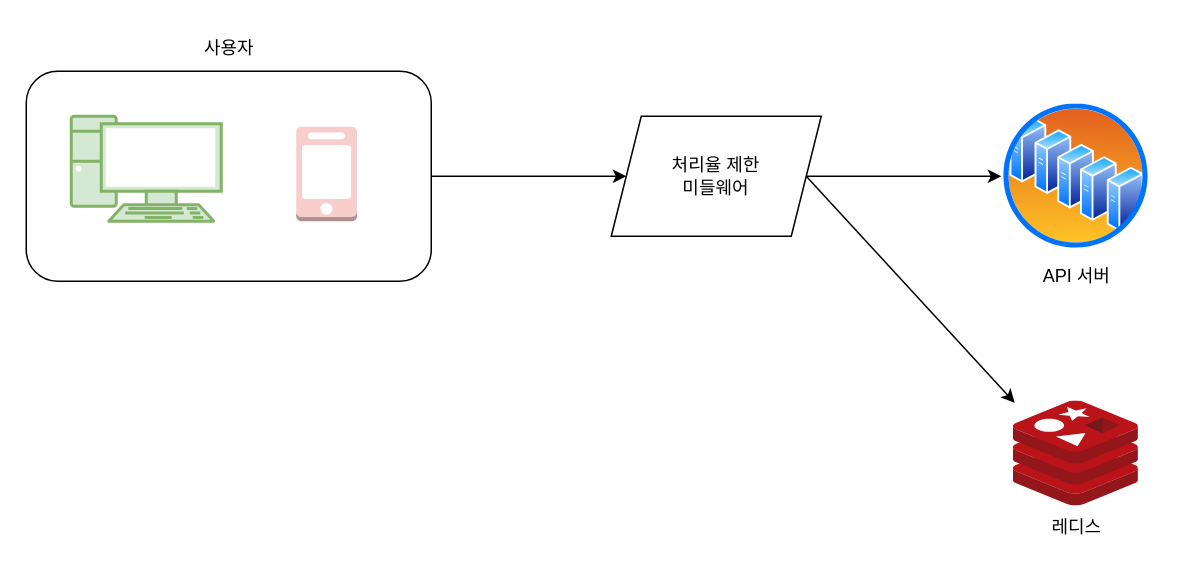
Image size: 1178x563. Some labels were removed from this diagram. Here are the shapes that lost their labels. From the top down, the centre of each, then its label:
the point at 145,168: 웹 브라우저
the point at 326,173: 모바일 앱
